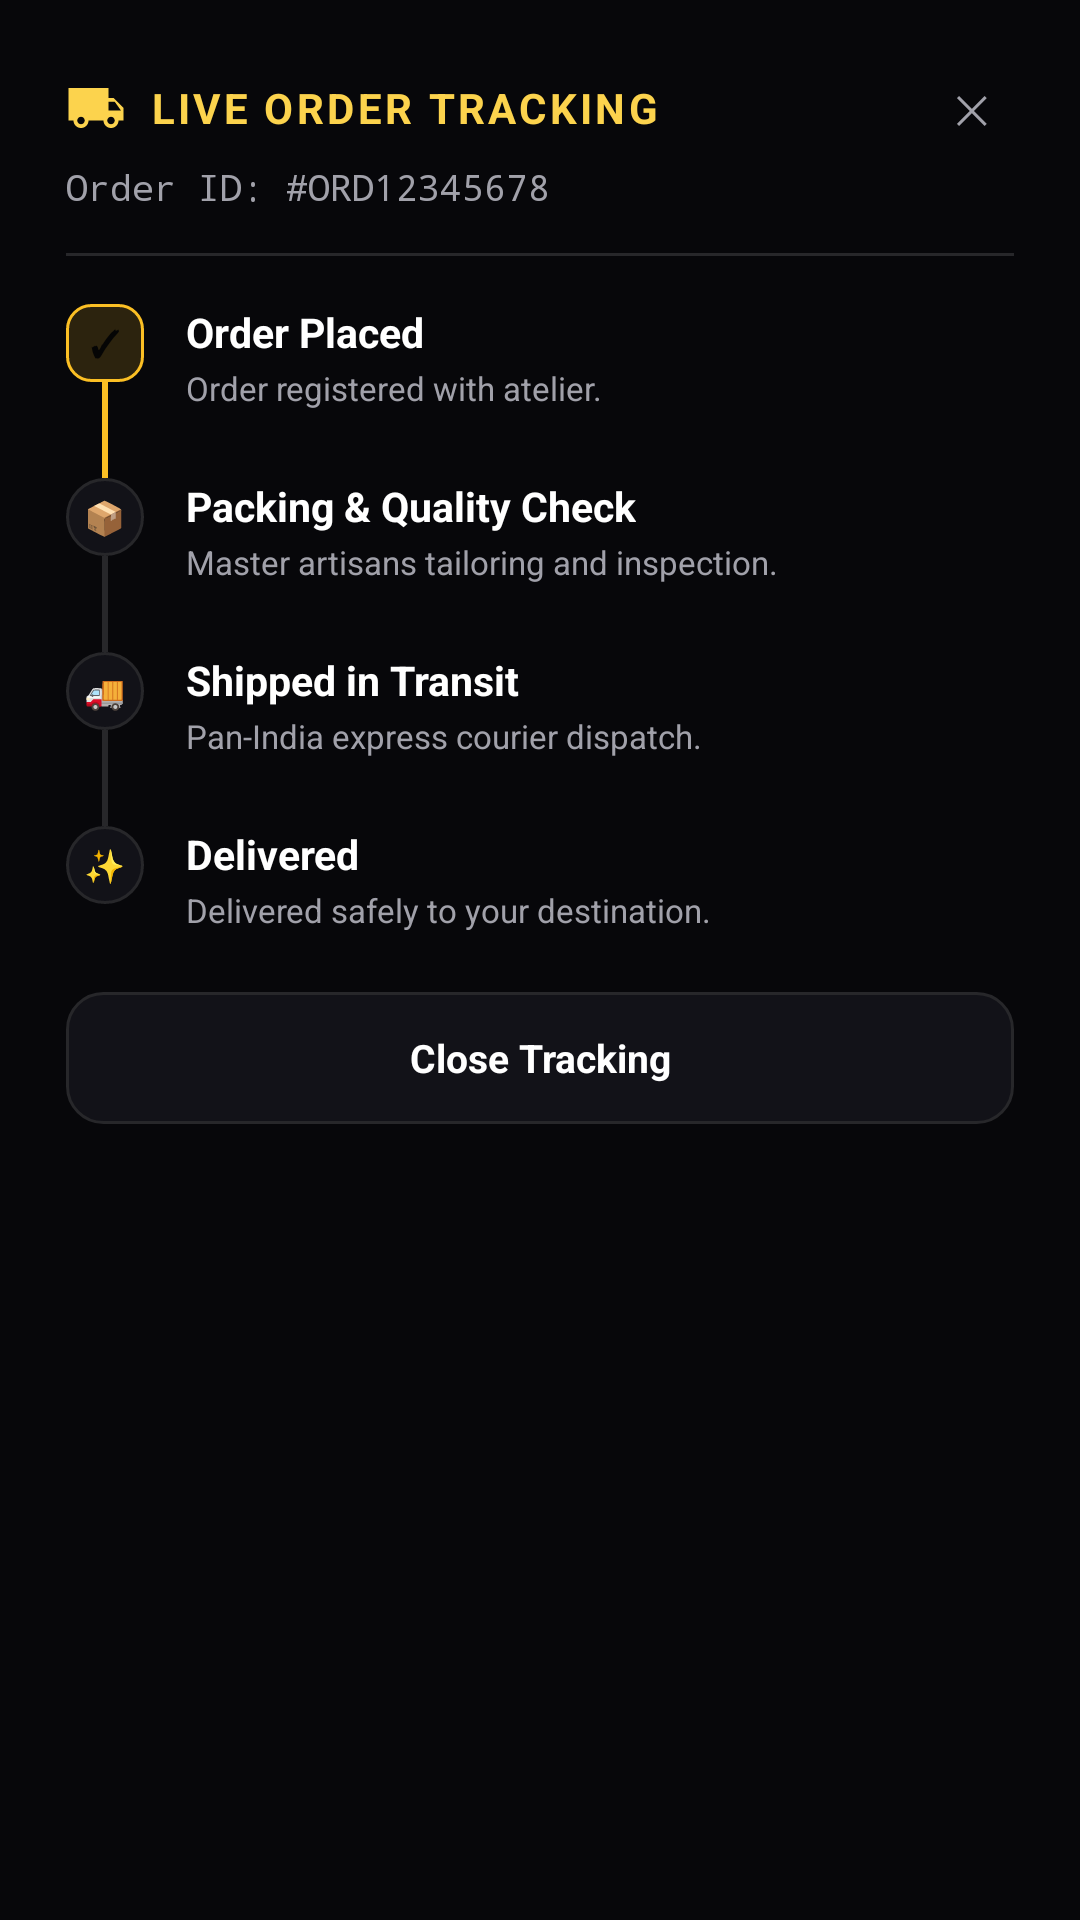

Locate icon controls on the screen. Image size 1080x1920, boxes as [x1,y1,x2,y2].
heritage shipping: [68,88,124,128]
